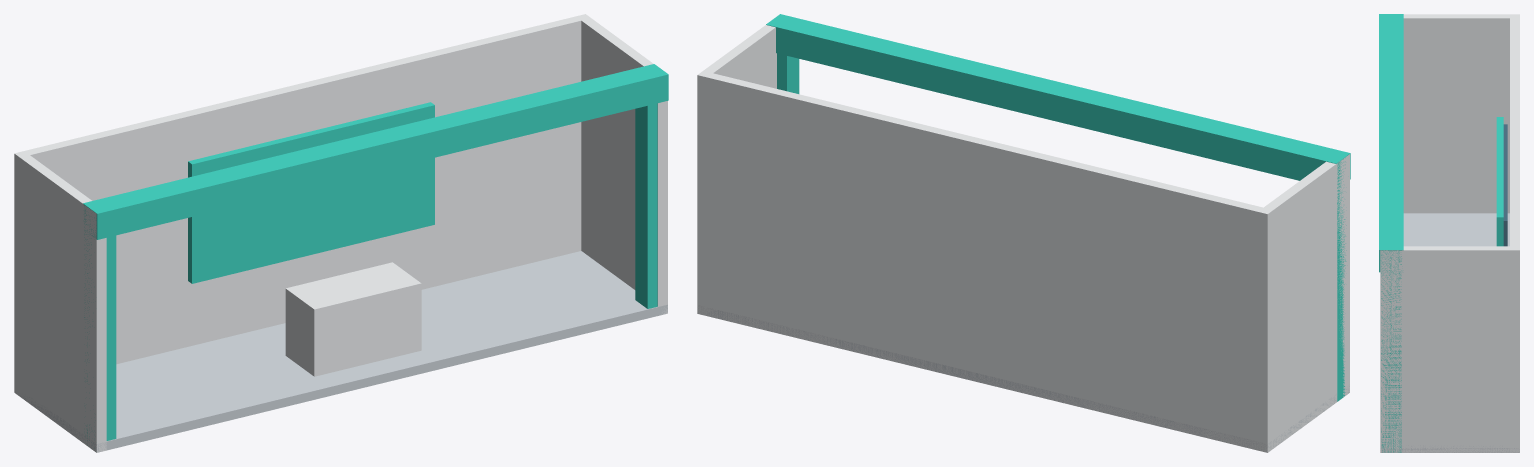
The picture shows the model from 3 angles, left to right: view 1: azimuth 30°, elevation 25°; view 2: azimuth 150°, elevation 25°; view 3: azimuth 270°, elevation 25°; orthographic projection. The views are drawn at different scales.
Parts seen in each view (by area): view 1: Exhibition Booth Concept; view 2: Exhibition Booth Concept; view 3: Exhibition Booth Concept.
Part boxes in pixels (x1,y1,x2,y2): Exhibition Booth Concept: (14, 14, 668, 452); Exhibition Booth Concept: (697, 14, 1350, 452); Exhibition Booth Concept: (1379, 14, 1519, 452).
Bounding box in the file's own units: 8 × 3.2 × 2.01.
